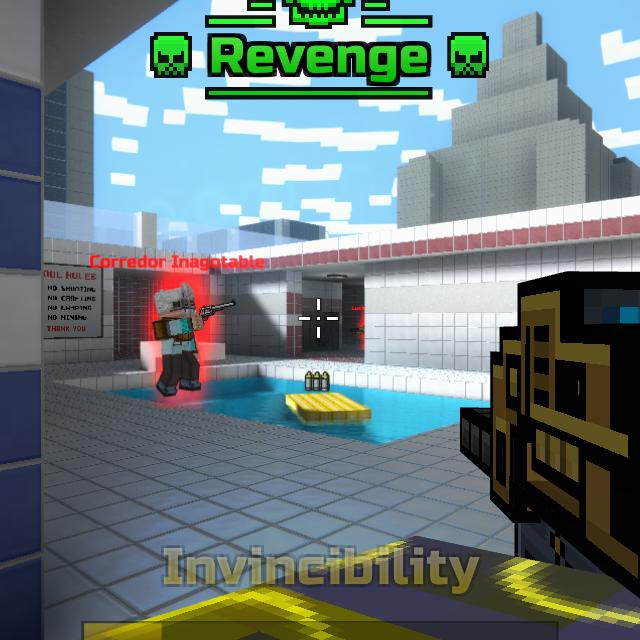Enemy: (152, 287, 204, 398)
